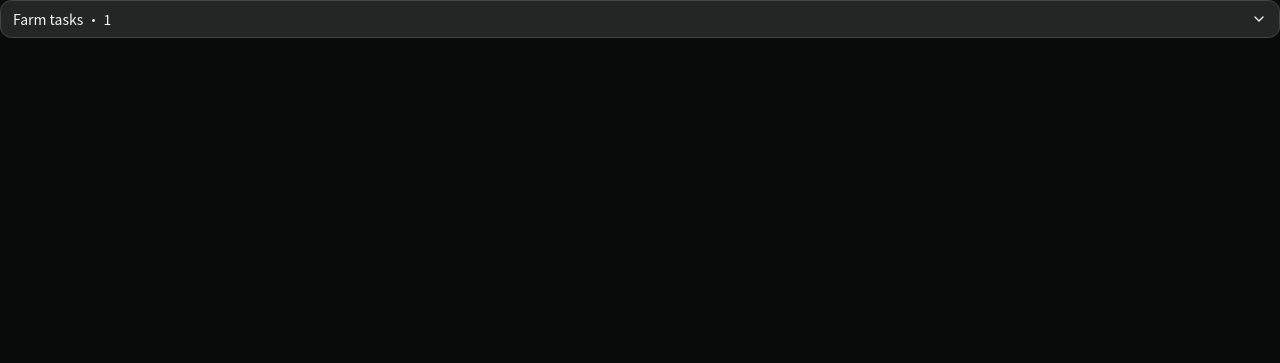
Scenario: collects required API inputs, reports missing information, and opens a completed module result
Later steps or results of the test are not shown.
Click the heading "Farm tasks · 1".
click(48, 19)  # box [13,9,1267,29]
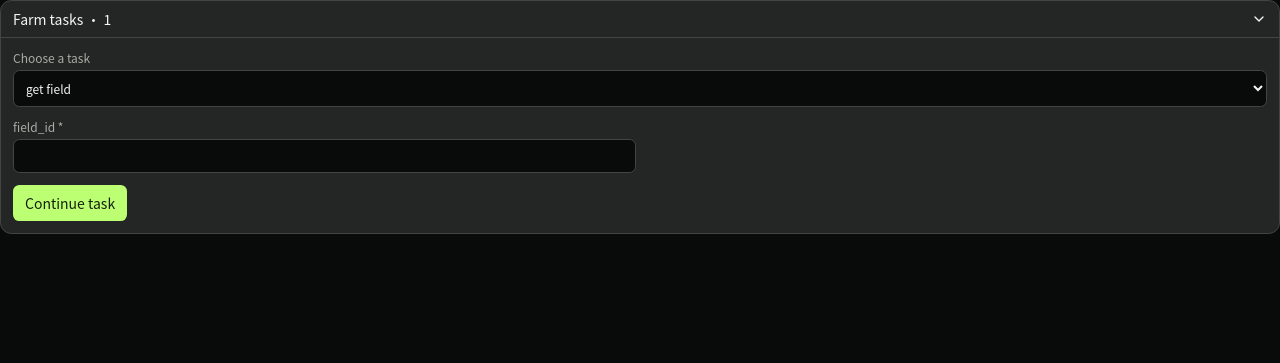
Click the button "Continue task".
click(70, 203)  # box [13,185,127,221]
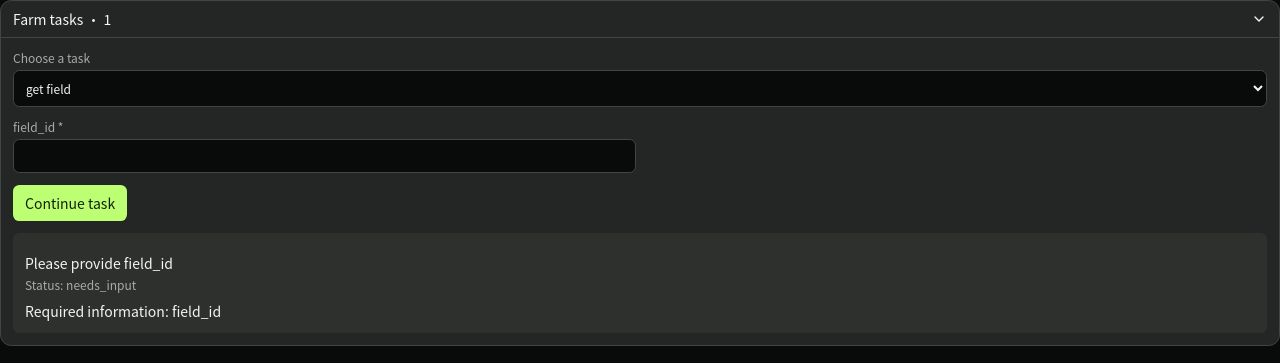
Check: the text "Please provide field_id" is shown, box [25,253,173,273]
